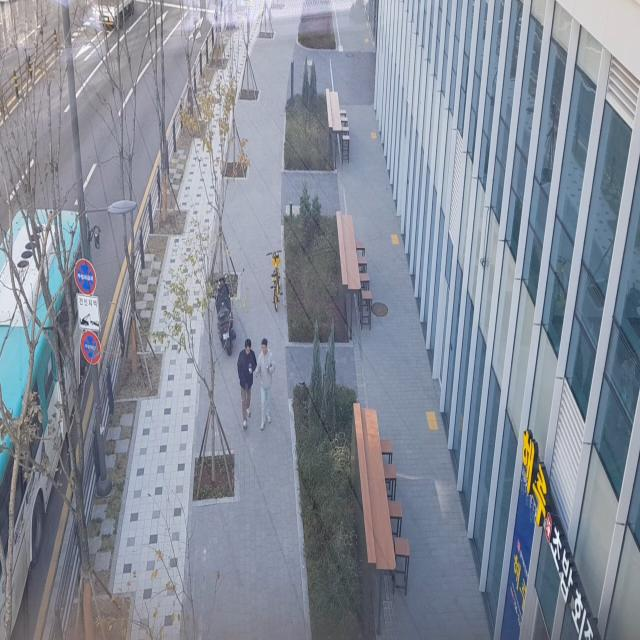Bus: (0, 169, 108, 640)
Truck: (90, 0, 138, 33)
